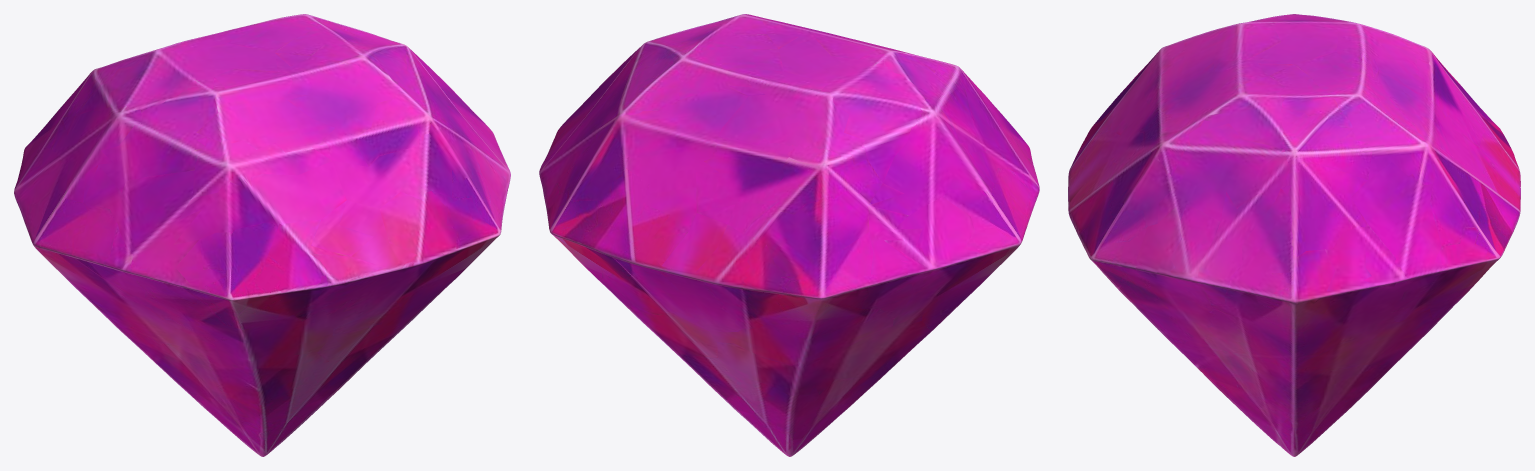
The model's file is gem.glb.
The picture shows the model from 3 angles, left to right: view 1: azimuth 30°, elevation 25°; view 2: azimuth 150°, elevation 25°; view 3: azimuth 270°, elevation 25°; orthographic projection.
Parts seen in each view (by area): view 1: world; view 2: world; view 3: world.
Part boxes in pixels (box(x1,y1,x2,y2)): world: box(14, 14, 510, 456); world: box(539, 14, 1039, 456); world: box(1068, 14, 1520, 456).
Size of the model in its own units: 1.9 by 1.59 by 1.64.
Materials: 1 (1 with a texture image).
